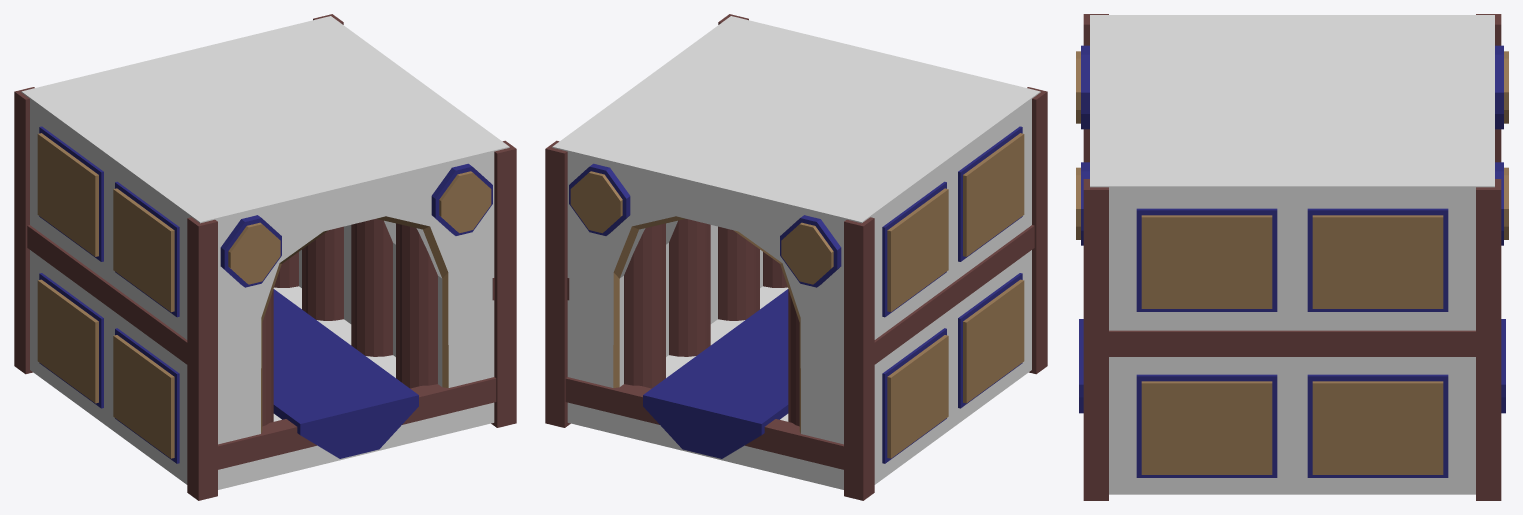
3 renders of one model, left to right at view 1: azimuth 30°, elevation 25°; view 2: azimuth 150°, elevation 25°; view 3: azimuth 270°, elevation 25°, orthographic. The views are drawn at different scales.
Visible parts, largest first — view 1: floor9.3, floor9.3Decor; view 2: floor9.3, floor9.3Decor; view 3: floor9.3, floor9.3Decor.
Part boxes in pixels (x1,y1,x2,y2): floor9.3: (21,16,509,489); floor9.3Decor: (14,14,516,500); floor9.3: (552,16,1040,489); floor9.3Decor: (545,14,1047,500); floor9.3: (1079,15,1505,494); floor9.3Decor: (1076,14,1508,500).
Bounding box in the file's own units: 188 × 154 × 193.
